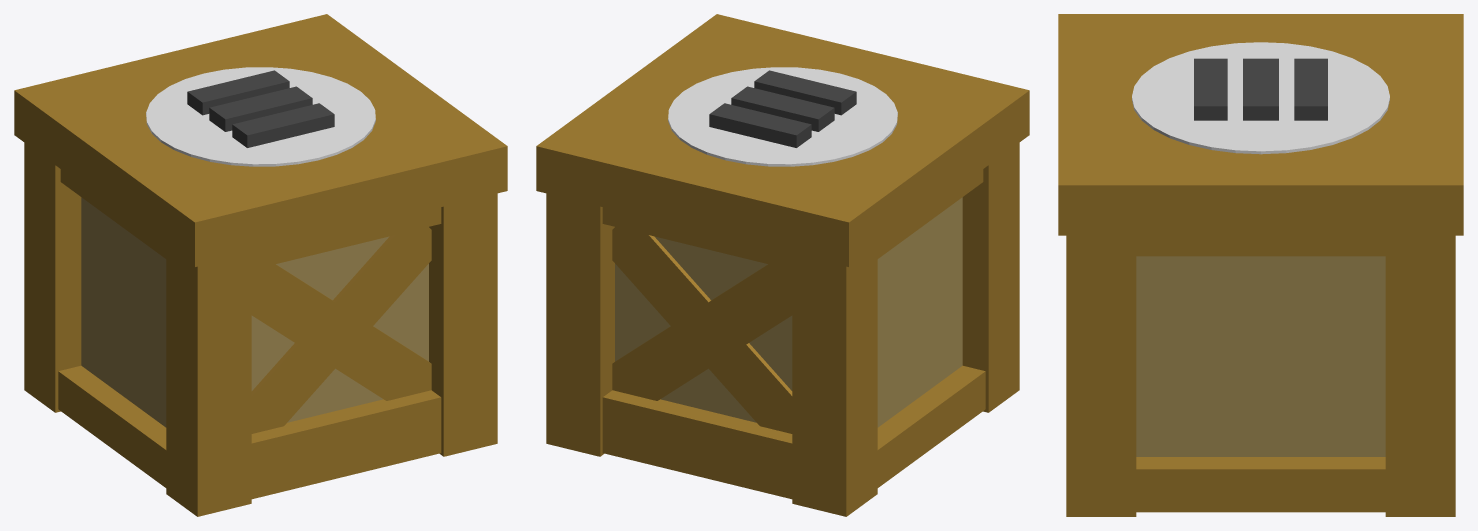
File: largeammo.fbx
3 renders of one model, left to right at view 1: azimuth 30°, elevation 25°; view 2: azimuth 150°, elevation 25°; view 3: azimuth 270°, elevation 25°, orthographic. The views are drawn at different scales.
Visible parts, largest first — view 1: Cube; view 2: Cube; view 3: Cube.
Boxes of the visible parts, x1,y1,x2,y2 form: Cube: [14, 14, 507, 516]; Cube: [536, 14, 1029, 516]; Cube: [1058, 14, 1463, 516].
Bounding box in the file's own units: 252 × 242 × 252.
